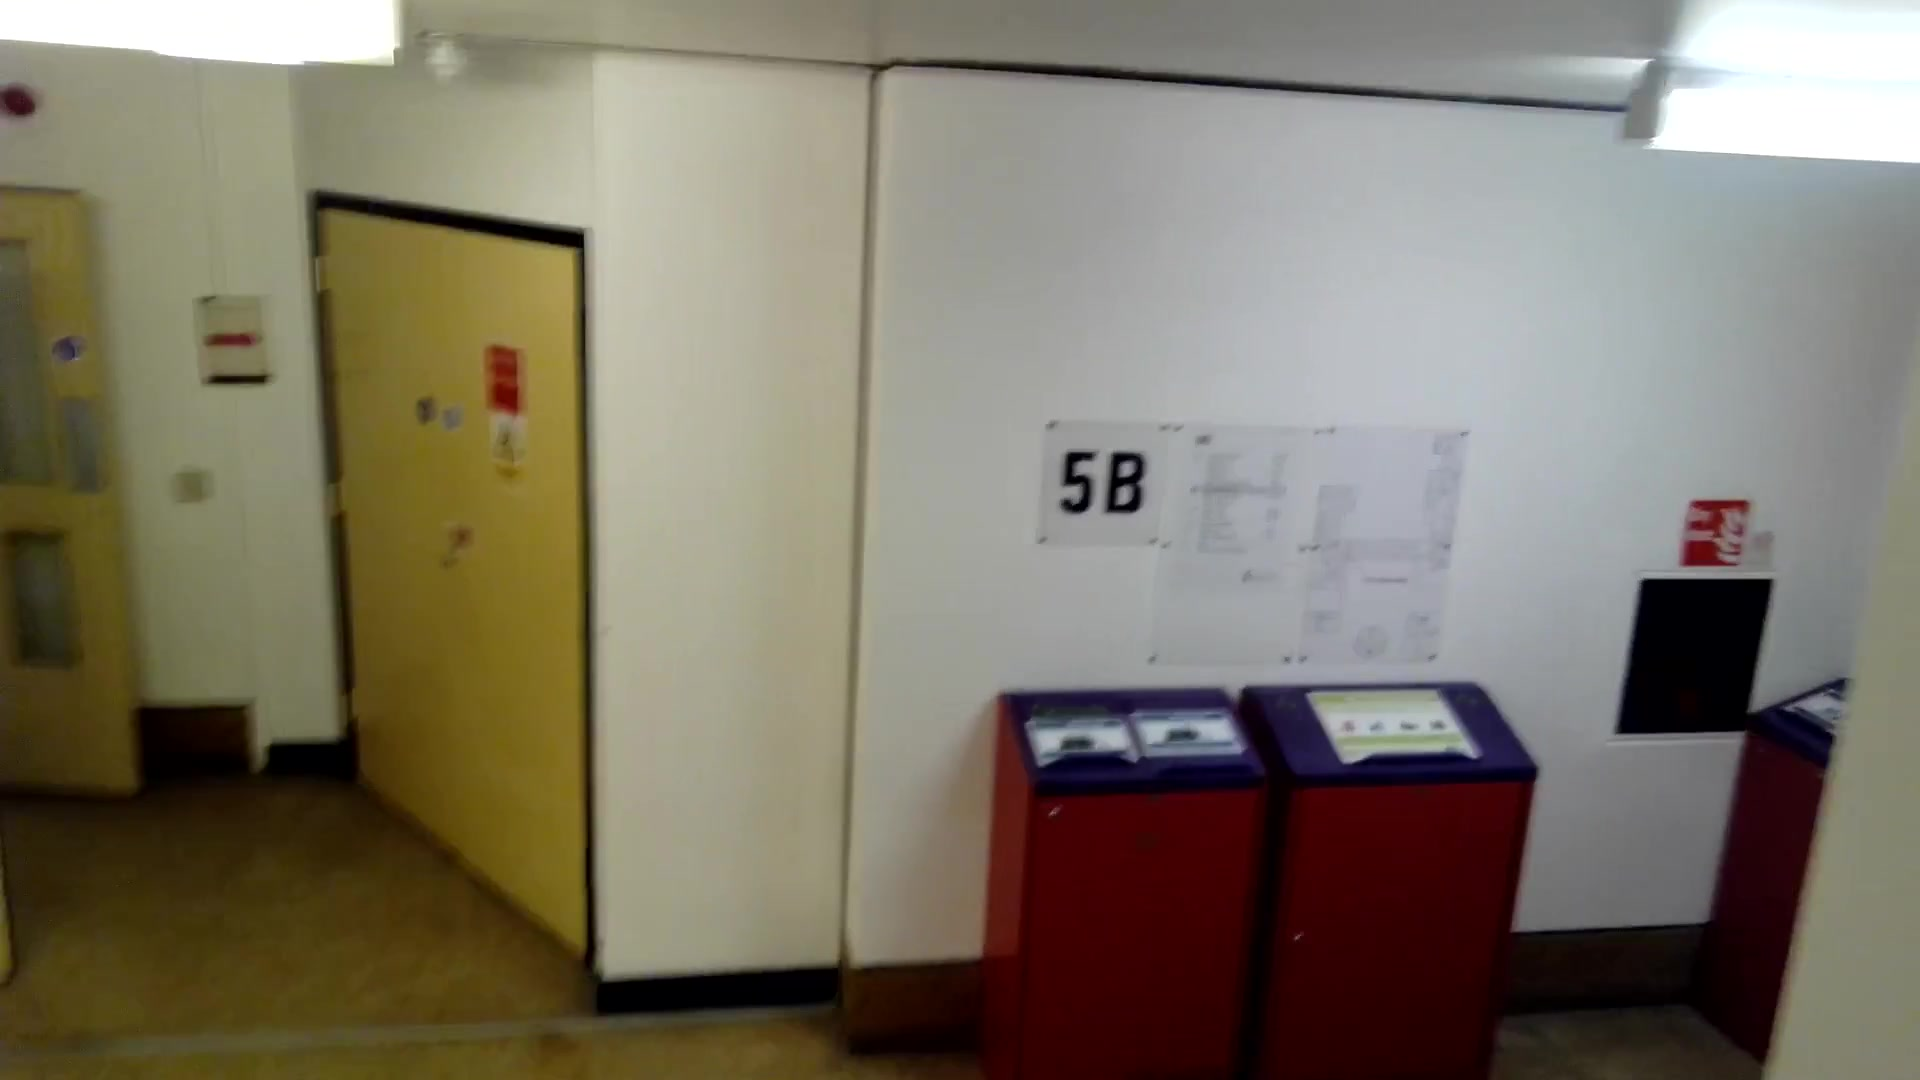Bin: (1247, 670, 1577, 1080), (982, 674, 1261, 1080)
Door: (298, 189, 629, 965)
